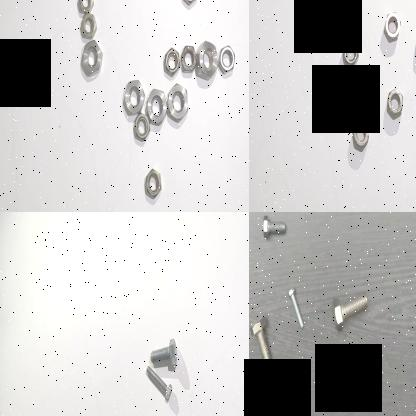Bolts: (326, 291, 370, 337), (249, 316, 279, 368), (146, 330, 182, 372), (142, 366, 175, 405), (286, 281, 307, 332), (260, 212, 290, 244)
NUTS: (196, 38, 224, 86), (119, 74, 146, 121), (78, 39, 106, 81), (166, 84, 192, 128), (144, 88, 168, 130), (141, 163, 165, 203), (78, 6, 101, 42), (160, 44, 182, 79), (218, 43, 238, 81), (179, 43, 199, 80), (385, 84, 405, 121), (350, 117, 370, 153), (341, 35, 360, 71), (382, 9, 402, 43), (132, 112, 150, 140), (76, 0, 96, 18), (179, 0, 201, 8)
